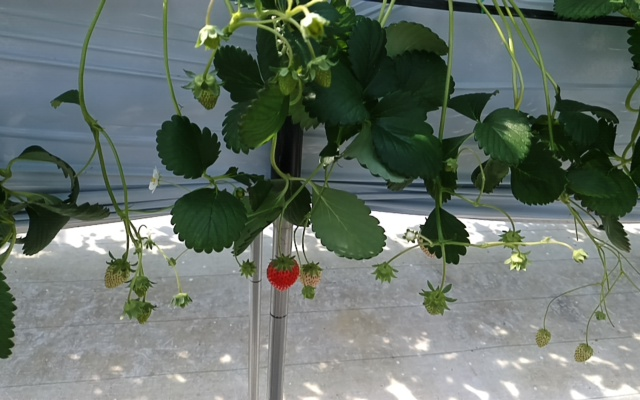GreenStrawberry: (189, 73, 220, 111), (305, 56, 332, 90), (102, 258, 130, 290), (276, 66, 300, 97), (422, 290, 449, 317), (300, 262, 323, 292), (132, 299, 152, 326), (573, 342, 595, 364), (130, 274, 149, 297), (534, 327, 552, 348)
MatureStrawberry: (265, 255, 300, 295)
